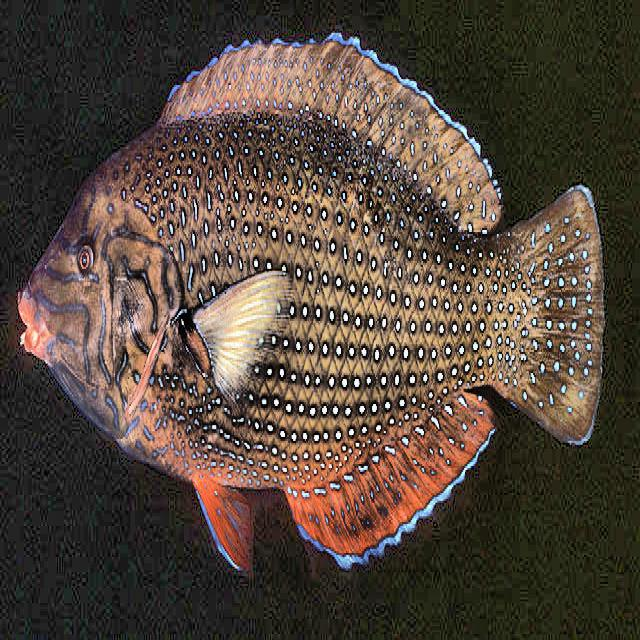fish: (17, 35, 602, 588)
